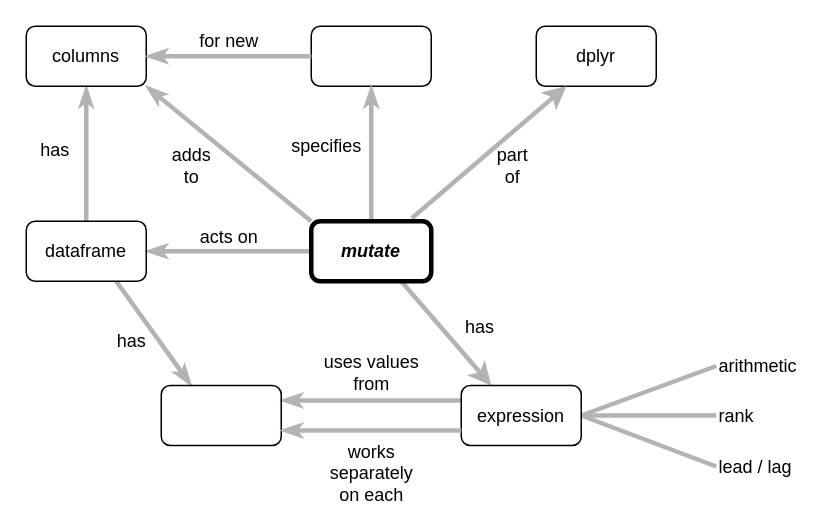
This 833x531 diagram has some shape labels left out. The shapes that lost their labels are listed below. From the top down, each one's centre as x and y in pixels, then its label:
point (370, 55): names
point (220, 415): rows
